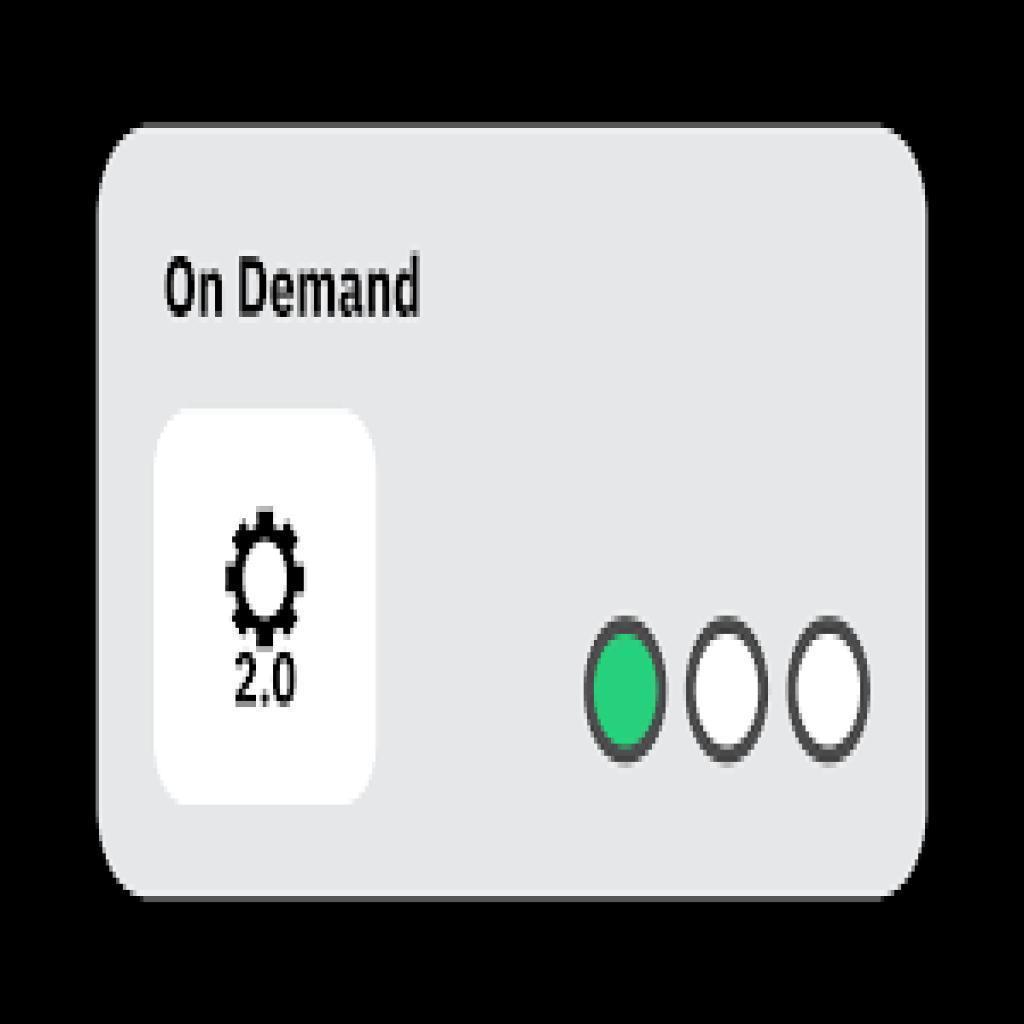radio: (576, 614, 670, 767), (784, 615, 874, 767), (683, 616, 769, 769)
